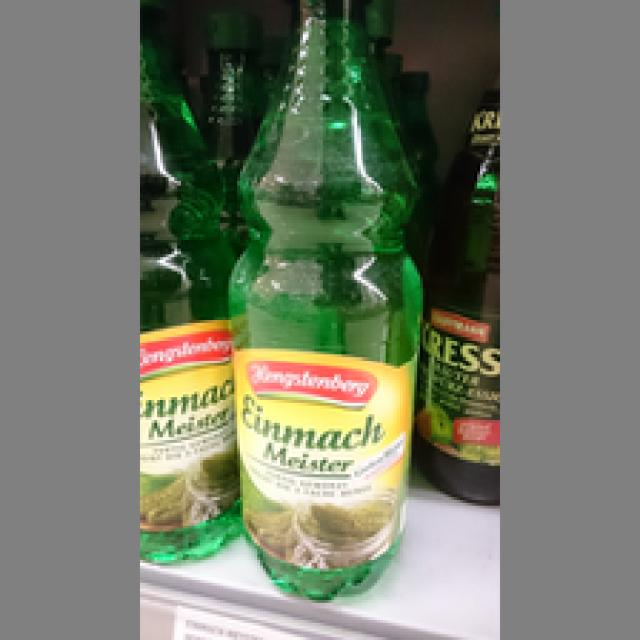groceries: (220, 0, 426, 600), (137, 20, 240, 569)
